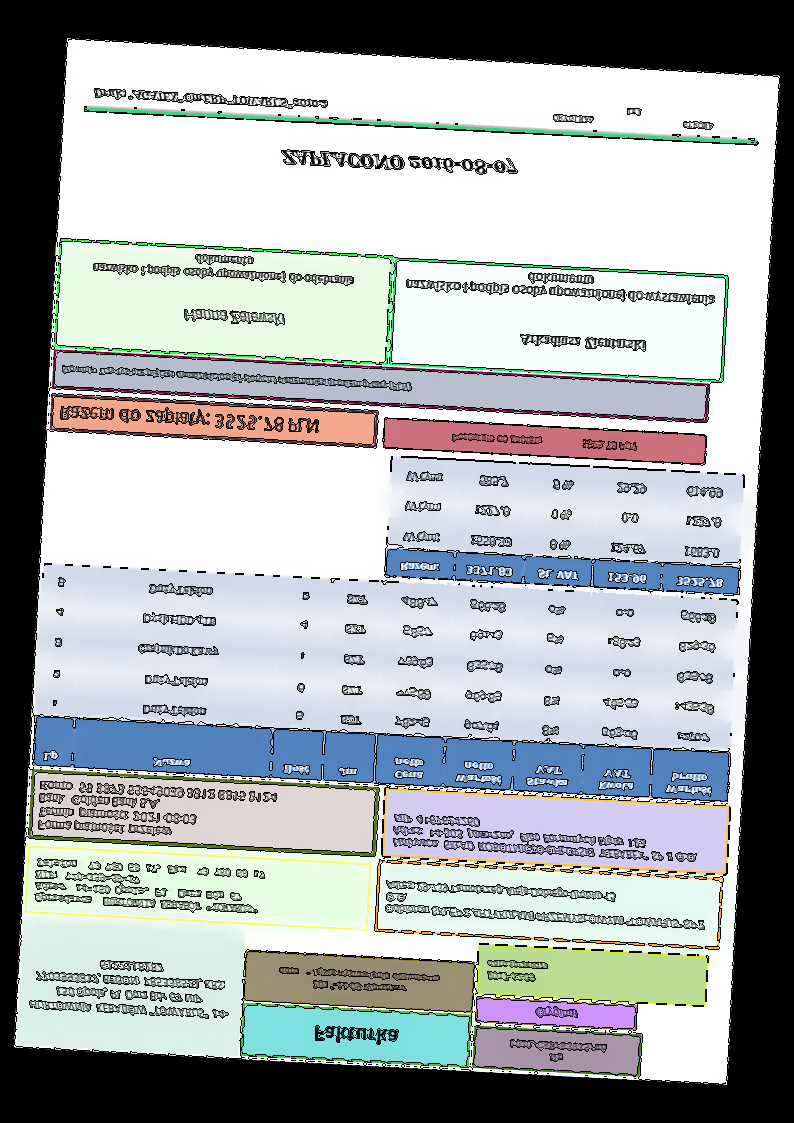Table: (31, 561, 740, 805), (383, 457, 746, 598)
TextBox: (380, 874, 710, 936), (387, 808, 702, 869), (33, 778, 280, 845), (29, 854, 268, 920), (402, 264, 720, 313), (26, 951, 234, 1025), (56, 360, 415, 398), (88, 245, 361, 292), (53, 401, 322, 443), (278, 142, 522, 184), (89, 82, 334, 114), (273, 963, 443, 1001), (446, 428, 642, 458), (550, 100, 716, 134), (517, 328, 650, 356), (506, 1035, 612, 1069), (178, 303, 288, 334), (308, 1022, 401, 1051), (483, 953, 551, 987), (532, 1004, 582, 1024)
